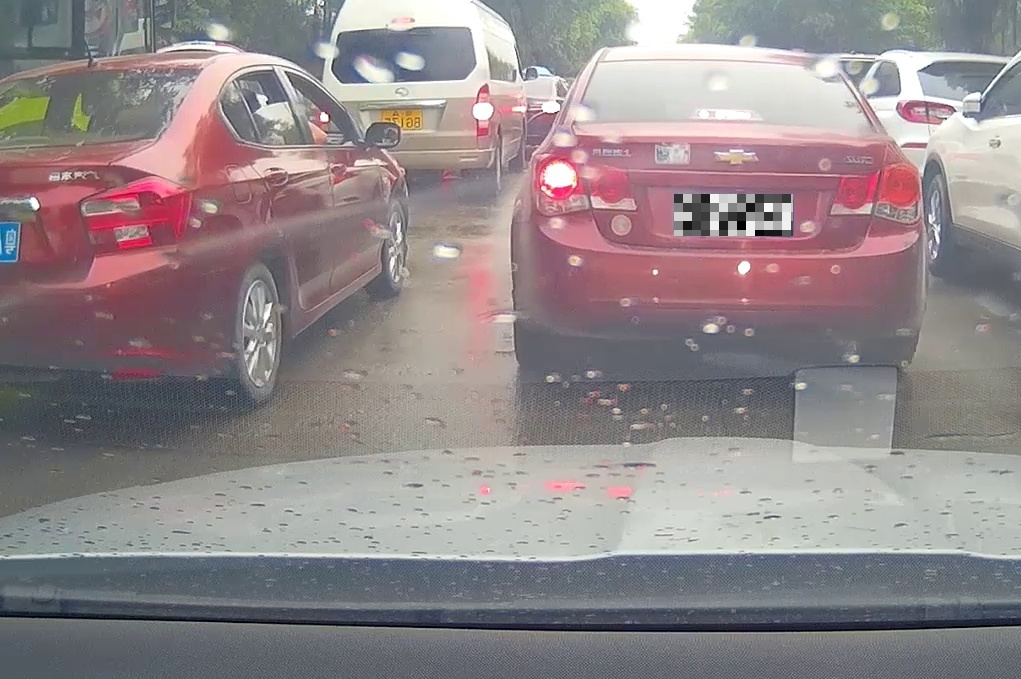L_light: (531, 153, 638, 216)
R_light: (828, 163, 923, 224)
T_light: (690, 106, 762, 124)
day-left: (510, 44, 926, 370)
plate_1: (674, 194, 793, 236)
